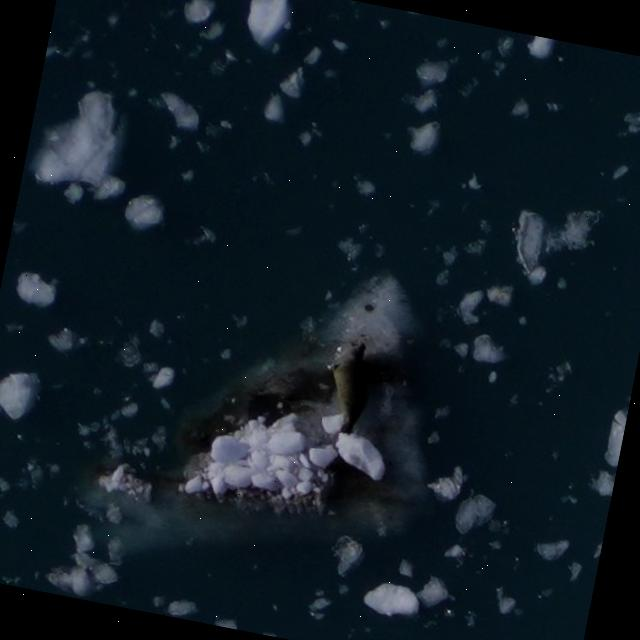seal: (330, 339, 371, 437)
